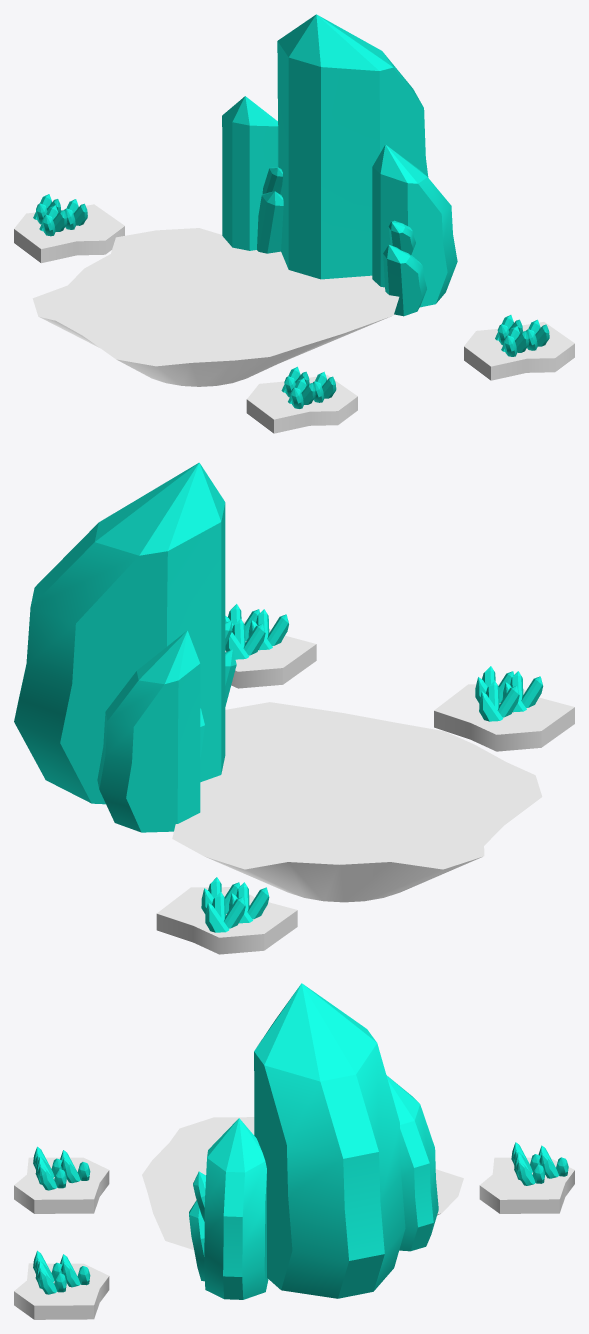
The model's file is Ice Arena Low Poly.FBX.
The picture shows the model from 3 angles, top to bottom: view 1: azimuth 30°, elevation 25°; view 2: azimuth 150°, elevation 25°; view 3: azimuth 270°, elevation 25°; orthographic projection. The views are drawn at different scales.
Parts seen in each view (by area): view 1: Cone001, Object004, Box005, Box001, Box003, Box002, Box004; view 2: Cone001, Object004, Box001, Box002, Box003, Box004; view 3: Object004, Box005, Cone001, Box001, Box003, Box004, Box002.
Boxes of the visible parts, box(x1,y1,x2,y2) form: Cone001: box(32, 228, 399, 386); Object004: box(277, 14, 428, 279); Box005: box(372, 144, 457, 316); Box001: box(222, 96, 283, 253); Box003: box(14, 204, 124, 263); Box002: box(246, 375, 357, 433); Box004: box(464, 322, 574, 380); Cone001: box(172, 702, 542, 902); Object004: box(14, 462, 225, 804); Box001: box(97, 630, 204, 832); Box002: box(434, 684, 574, 751); Box003: box(156, 887, 297, 954); Box004: box(225, 621, 316, 688); Object004: box(254, 983, 405, 1298); Box005: box(189, 1118, 268, 1299); Cone001: box(142, 1117, 463, 1249); Box001: box(386, 1075, 438, 1251); Box003: box(479, 1157, 574, 1213); Box004: box(14, 1263, 109, 1319); Box002: box(14, 1157, 109, 1213).
Size of the model in its own units: 755 by 585 by 948.
